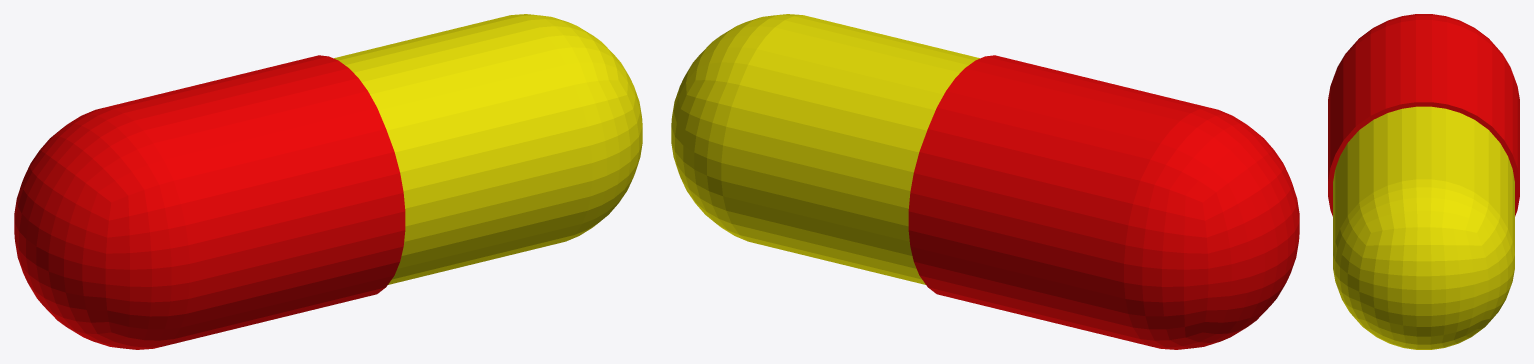
File: RedYellowPillBlenderV2.fbx
3 views of the same model, side by side, from view 1: azimuth 30°, elevation 25°; view 2: azimuth 150°, elevation 25°; view 3: azimuth 270°, elevation 25° (orthographic). The views are drawn at different scales.
Visible parts, largest first — view 1: Roundcube.001, Roundcube; view 2: Roundcube.001, Roundcube; view 3: Roundcube, Roundcube.001.
Part boxes in pixels (box(x1,y1,x2,y2)): Roundcube.001: box(14, 55, 405, 349); Roundcube: box(334, 14, 642, 284); Roundcube.001: box(908, 55, 1299, 349); Roundcube: box(671, 14, 979, 284); Roundcube: box(1333, 106, 1514, 349); Roundcube.001: box(1328, 14, 1519, 216).
Size of the model in its own units: 591 by 211 by 211.
